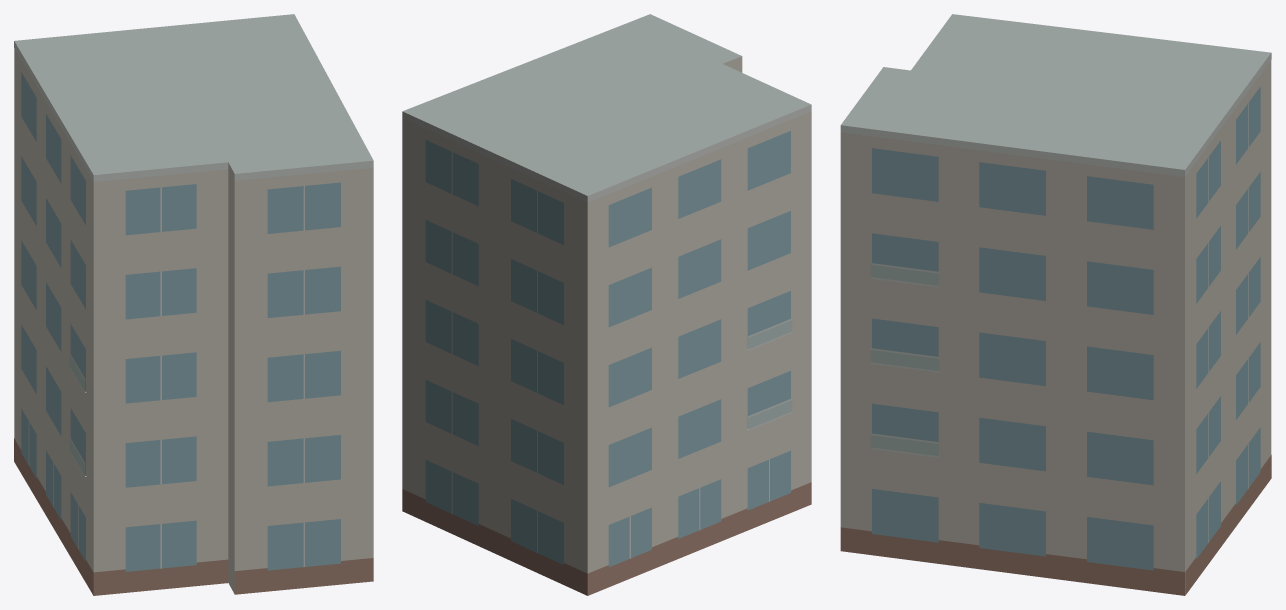
Rendered from survey-upis-32869130.glb.
3 views of the same model, side by side, from view 1: azimuth 30°, elevation 25°; view 2: azimuth 150°, elevation 25°; view 3: azimuth 270°, elevation 25° (orthographic). The views are drawn at different scales.
Visible parts, largest first — view 1: survey-upis-32869130.tmp; view 2: survey-upis-32869130.tmp; view 3: survey-upis-32869130.tmp.
Part boxes in pixels (x1=…): survey-upis-32869130.tmp: x1=14, y1=14, x2=373, y2=595; survey-upis-32869130.tmp: x1=402, y1=14, x2=811, y2=595; survey-upis-32869130.tmp: x1=840, y1=14, x2=1271, y2=595.
Bounding box in the file's own units: 11.4 × 14.5 × 13.3.
